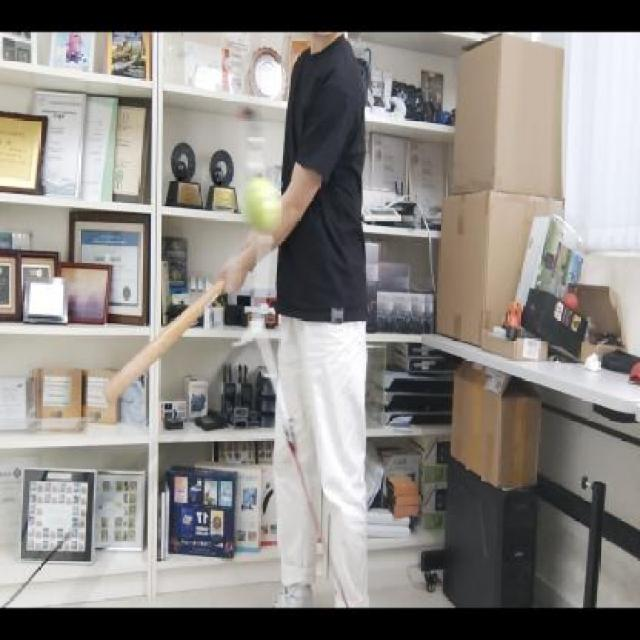baseball: (243, 174, 282, 231)
